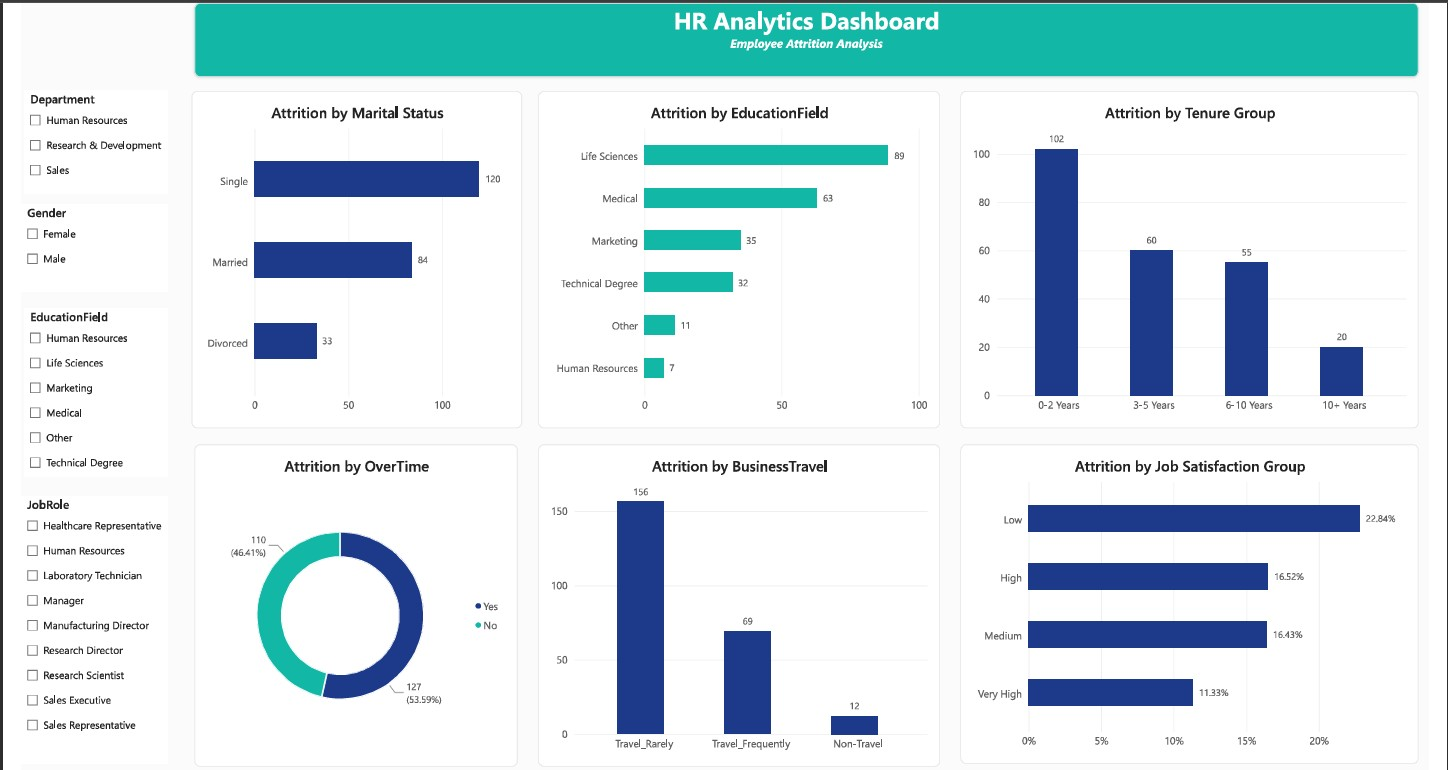

What the dashboard file says about the page in this screenshot:
{"tool":"powerbi","page":{"name":"Attrition Drivers ","canvas":[1920,1080],"ordinal":1},"visuals":[{"type":"clusteredBarChart","title":"Attrition by Marital Status","fields":{"Category":["Fact_Employee.MaritalStatus"],"Y":["Measures Table.Attrition Count"]},"box":[232,120.3,451.2,459.8],"z":0},{"type":"donutChart","title":"Attrition by OverTime","fields":{"Category":["Fact_Employee.OverTime"],"Y":["Measures Table.Attrition Count"]},"box":[236.3,601.6,440.5,440.5],"z":1},{"type":"clusteredBarChart","title":"Attrition  by EducationField","fields":{"Category":["Fact_Employee.EducationField"],"Y":["Measures Table.Attrition Count"]},"box":[704.7,120.3,547.9,459.8],"z":2},{"type":"columnChart","title":"Attrition by BusinessTravel","fields":{"Category":["Fact_Employee.BusinessTravel"],"Y":["Measures Table.Attrition Count"]},"box":[704.7,601.6,547.9,440.5],"z":3},{"type":"columnChart","title":"Attrition  by Tenure Group","fields":{"Category":["Fact_Employee.Tenure Group"],"Y":["Measures Table.Attrition Count"]},"box":[1280.6,120.3,625.2,459.8],"z":5},{"type":"slicer","fields":{"Values":["Dim_Department.Department"]},"box":[4.3,120.3,195.5,139.7],"z":6},{"type":"slicer","fields":{"Values":["Dim_Gender.Gender"]},"box":[0,275,199.8,120.3],"z":7},{"type":"slicer","fields":{"Values":["Dim_Education.EducationField"]},"box":[4.3,416.8,195.5,229.9],"z":8},{"type":"slicer","fields":{"Values":["Dim_JobRole.JobRole"]},"box":[0,672.5,199.8,365.3],"z":9},{"type":"textbox","box":[236.3,0,1669.5,101],"z":10},{"type":"clusteredBarChart","title":"Attrition by Job Satisfaction Group","fields":{"Category":["Fact_Employee.Job Satisfaction Group"],"Y":["Measures Table.Attrition Rate %"]},"box":[1280.6,601.6,625.2,436.2],"z":11},{"type":"textbox","box":[283.3,1041.7,1623.3,38.3],"z":12}]}

Visuals, with their boxes on the page's 1920x1080 design canvas (x1, y1, x2, y2). These are canvas units, not pixel positions in the 1448x770 screenshot, which may show the page scaled, cropped or inside an application window:
"Attrition by Marital Status" clusteredBarChart: {"left": 232, "top": 120, "right": 683, "bottom": 580}
"Attrition by OverTime" donutChart: {"left": 236, "top": 602, "right": 677, "bottom": 1042}
"Attrition  by EducationField" clusteredBarChart: {"left": 705, "top": 120, "right": 1253, "bottom": 580}
"Attrition by BusinessTravel" columnChart: {"left": 705, "top": 602, "right": 1253, "bottom": 1042}
"Attrition  by Tenure Group" columnChart: {"left": 1281, "top": 120, "right": 1906, "bottom": 580}
slicer - Dim_Department.Department: {"left": 4, "top": 120, "right": 200, "bottom": 260}
slicer - Dim_Gender.Gender: {"left": 0, "top": 275, "right": 200, "bottom": 395}
slicer - Dim_Education.EducationField: {"left": 4, "top": 417, "right": 200, "bottom": 647}
slicer - Dim_JobRole.JobRole: {"left": 0, "top": 672, "right": 200, "bottom": 1038}
textbox: {"left": 236, "top": 0, "right": 1906, "bottom": 101}
"Attrition by Job Satisfaction Group" clusteredBarChart: {"left": 1281, "top": 602, "right": 1906, "bottom": 1038}
textbox: {"left": 283, "top": 1042, "right": 1907, "bottom": 1080}
